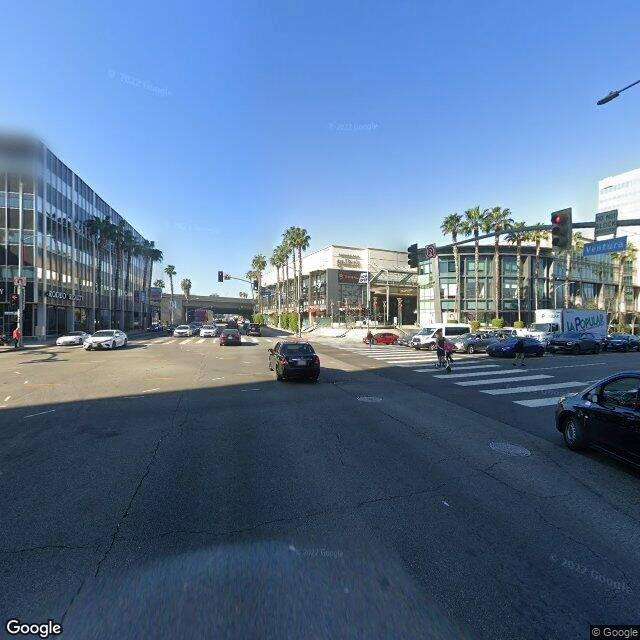crack: (138, 471, 465, 540), (89, 422, 168, 576), (0, 531, 99, 555)
